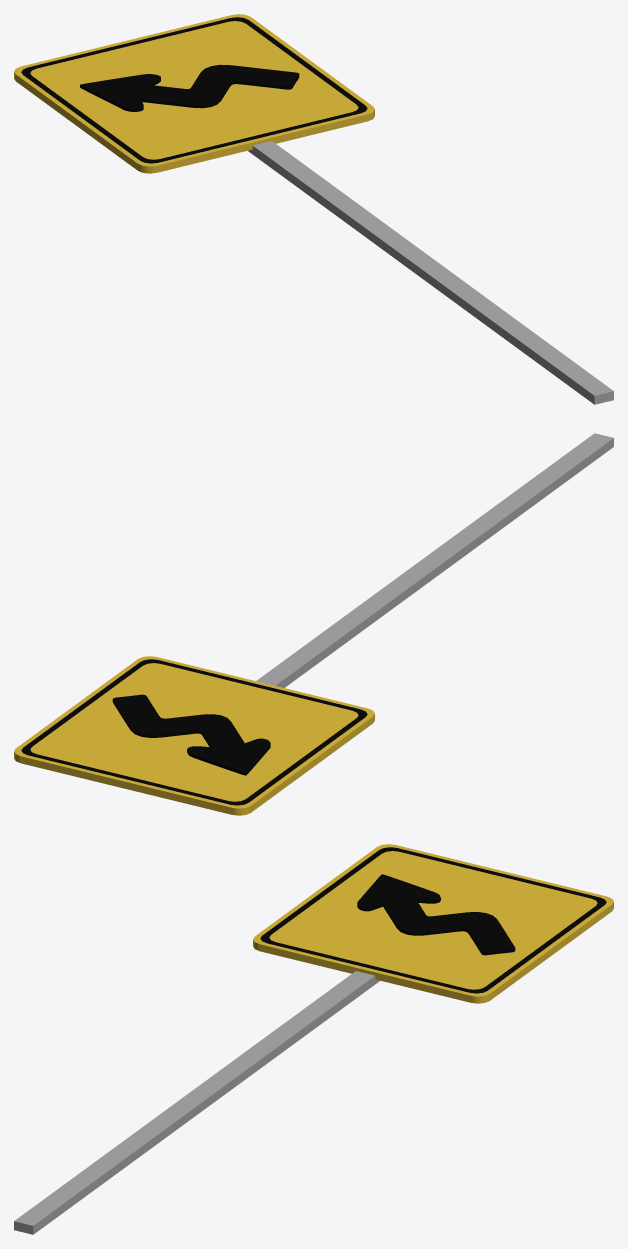
The model's file is left_reverse_turn_sign.fbx.
3 views of the same model, one above another, from view 1: azimuth 30°, elevation 25°; view 2: azimuth 150°, elevation 25°; view 3: azimuth 330°, elevation 25° (orthographic).
Parts seen in each view (by area): view 1: square_yellow_sign, signpost_mat1, LeftReverseTurn; view 2: square_yellow_sign, signpost_mat1, LeftReverseTurn; view 3: square_yellow_sign, signpost_mat1, LeftReverseTurn.
Boxes of the visible parts, x1=… form: square_yellow_sign: x1=14, y1=14, x2=374, y2=173; signpost_mat1: x1=248, y1=141, x2=613, y2=404; LeftReverseTurn: x1=80, y1=64, x2=299, y2=111; square_yellow_sign: x1=14, y1=656, x2=374, y2=815; signpost_mat1: x1=256, y1=433, x2=613, y2=687; LeftReverseTurn: x1=112, y1=694, x2=270, y2=775; square_yellow_sign: x1=253, y1=844, x2=613, y2=1003; signpost_mat1: x1=14, y1=971, x2=379, y2=1234; LeftReverseTurn: x1=357, y1=874, x2=515, y2=955.
Size of the model in its own units: 70.96 by 4.31 by 250.
